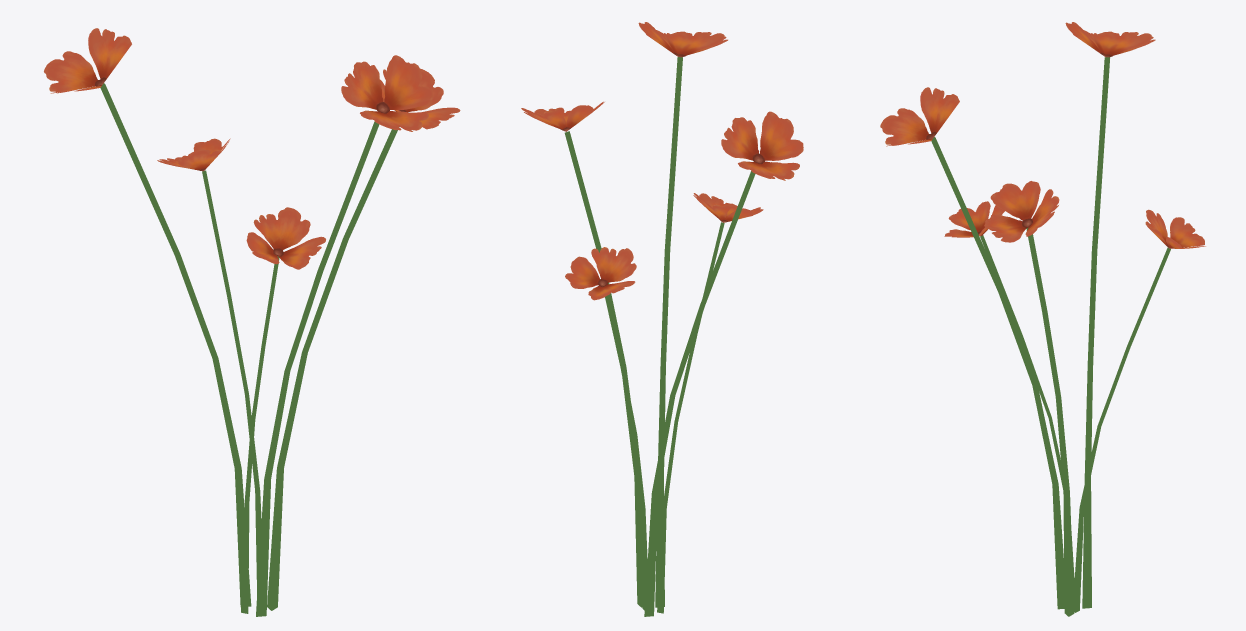
The model's file is MEADOW_SM_Flower_08_02.gltf.
3 renders of one model, left to right at view 1: azimuth 30°, elevation 25°; view 2: azimuth 150°, elevation 25°; view 3: azimuth 270°, elevation 25°, orthographic. The views are drawn at different scales.
Parts seen in each view (by area): view 1: SM_Flower_08_02_LOD0; view 2: SM_Flower_08_02_LOD0; view 3: SM_Flower_08_02_LOD0.
Part boxes in pixels (x1,y1,x2,y2): SM_Flower_08_02_LOD0: (44,28,460,616); SM_Flower_08_02_LOD0: (521,22,803,616); SM_Flower_08_02_LOD0: (880,22,1205,616).
Size of the model in its own units: 0.4003 by 0.585 by 0.3635.
1 material, 1 textured.
